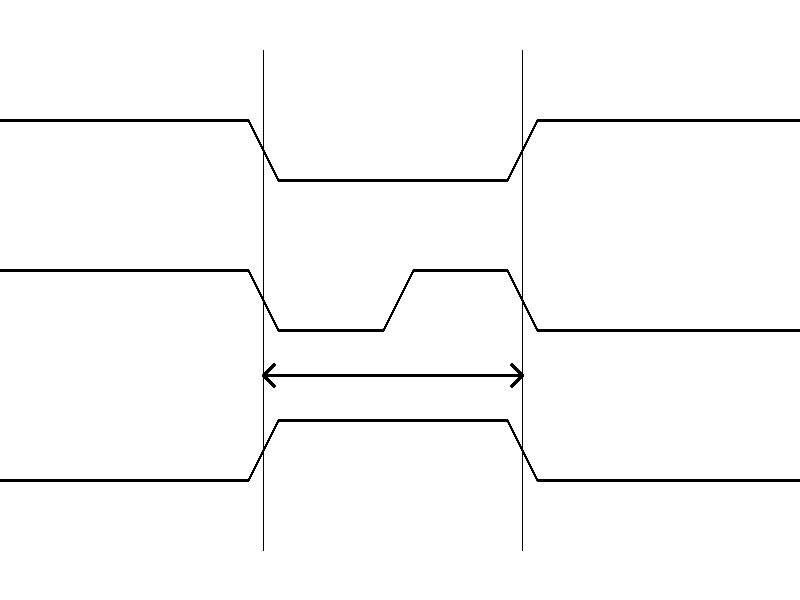double_arrow: (263, 360, 522, 390)
